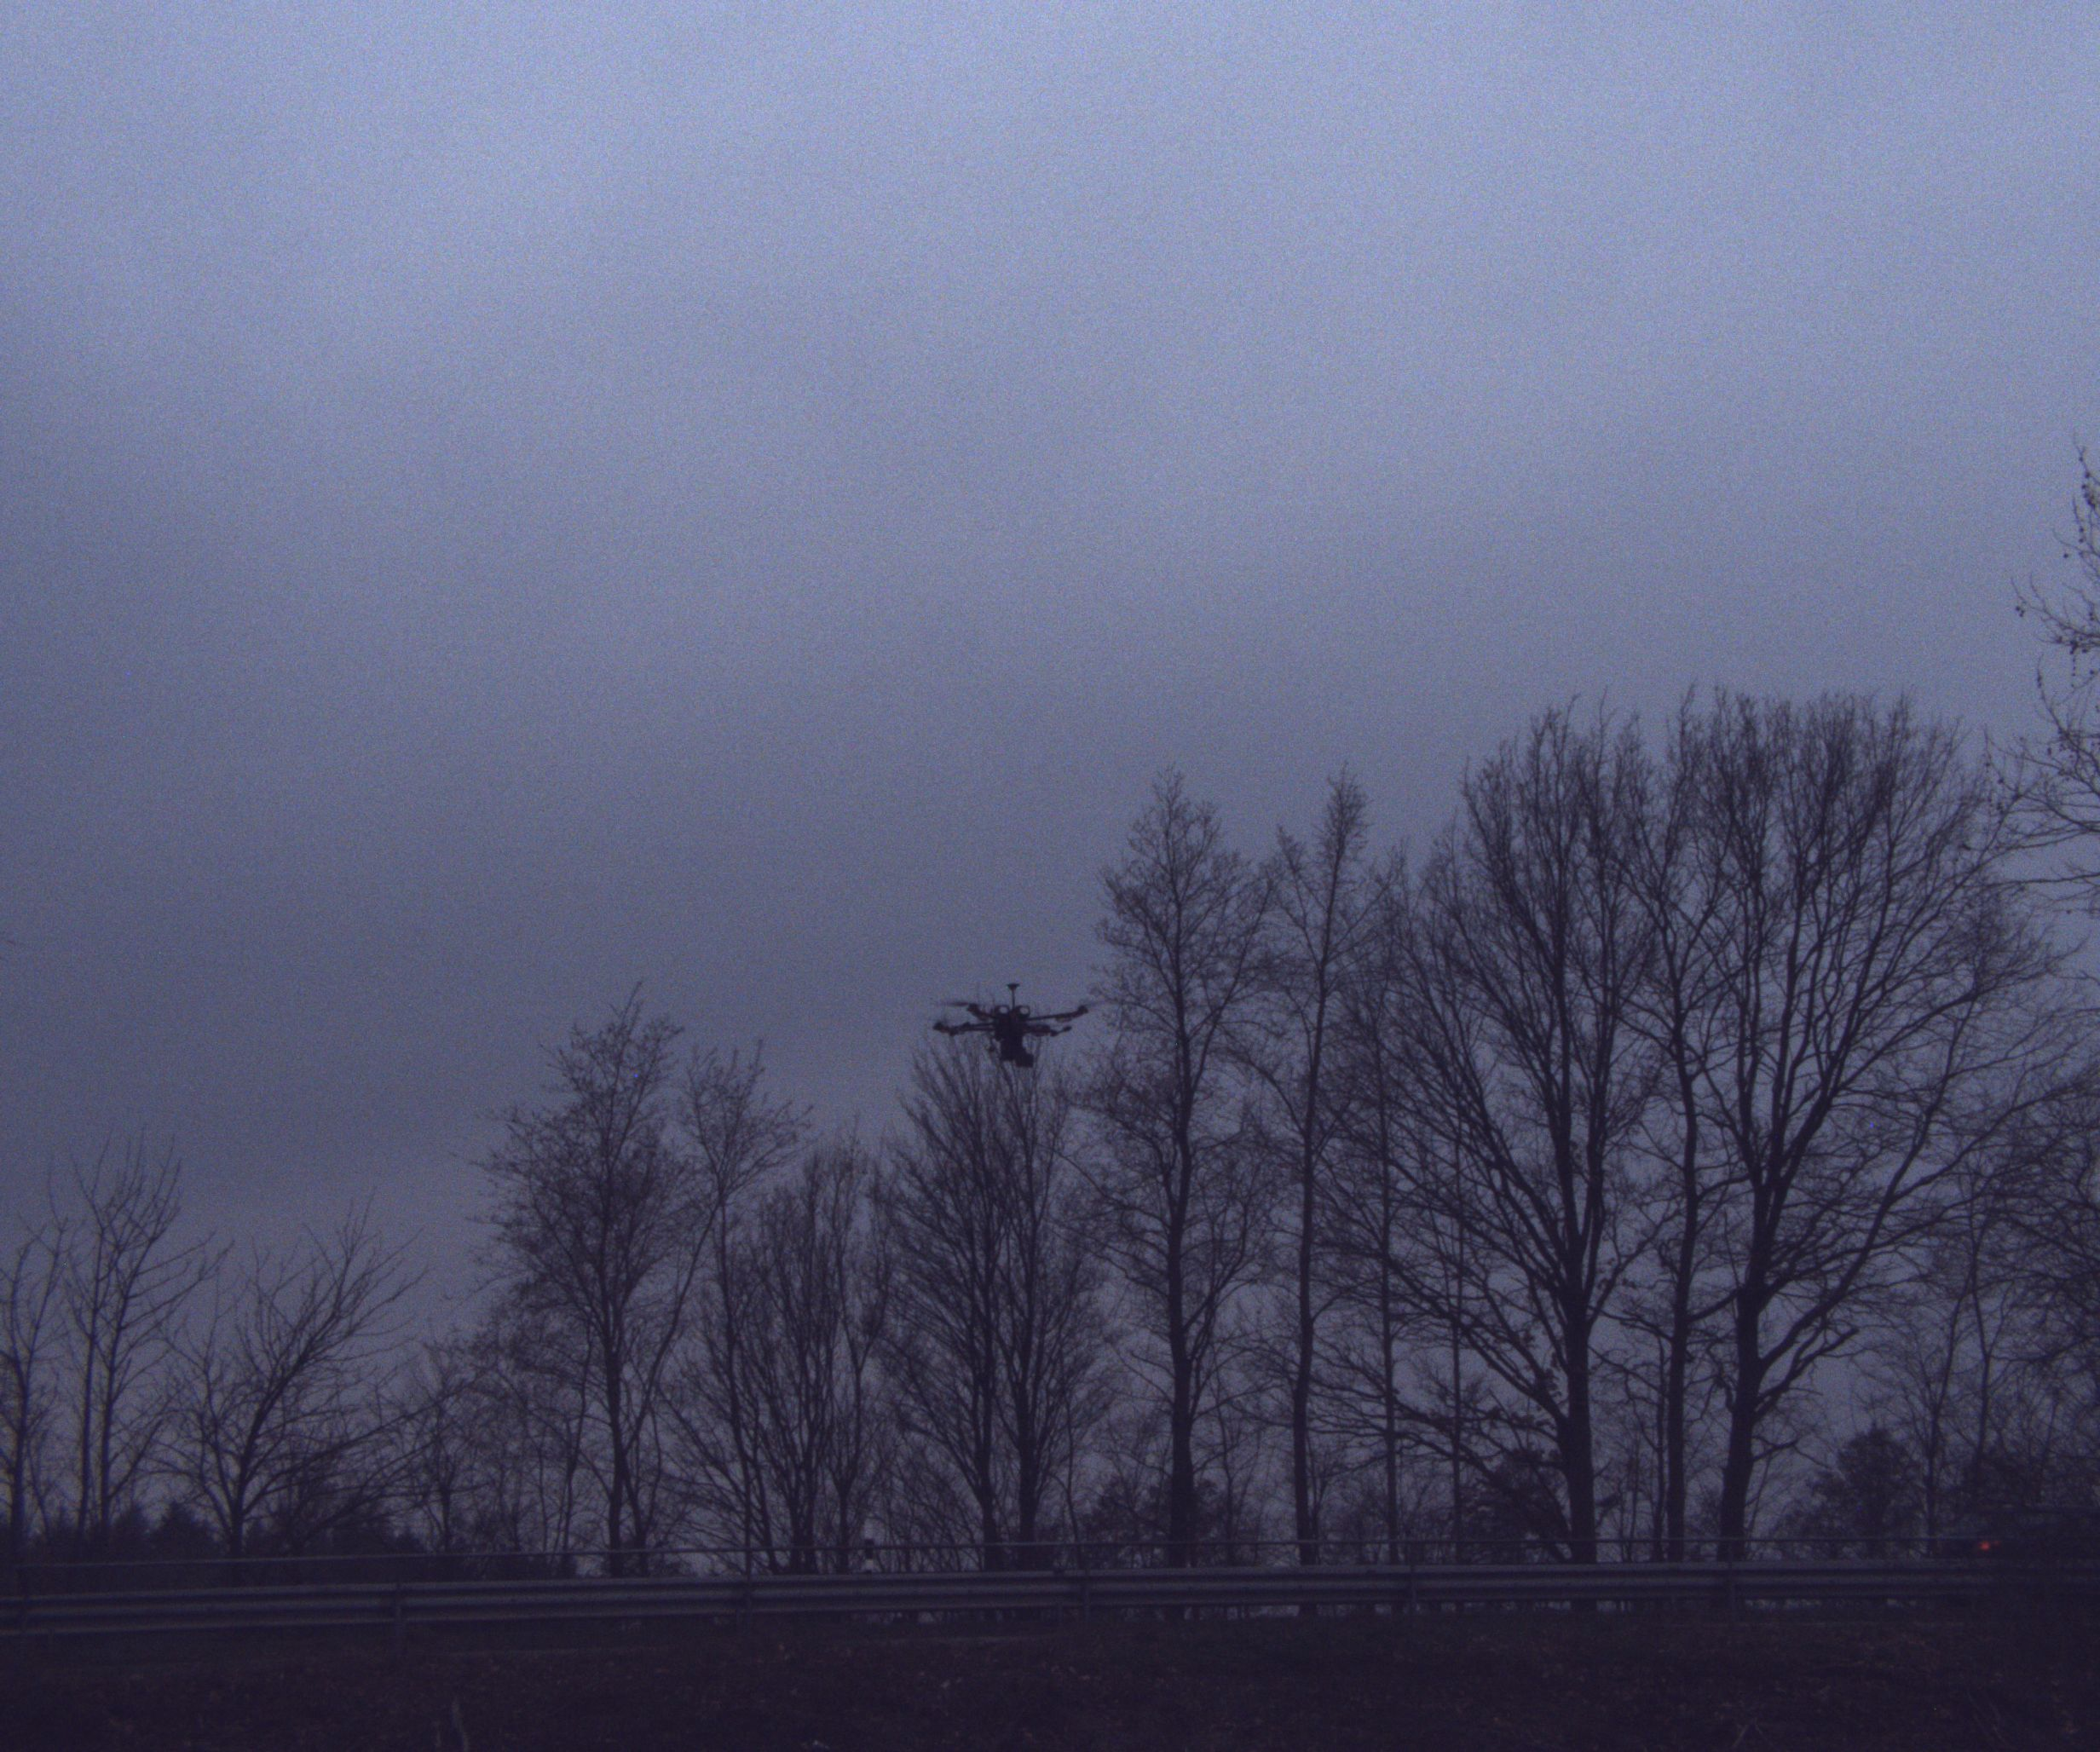Drohne: (921, 980, 1134, 1128)
